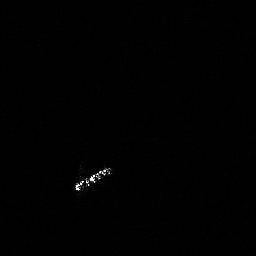ship: (71, 162, 115, 194)
